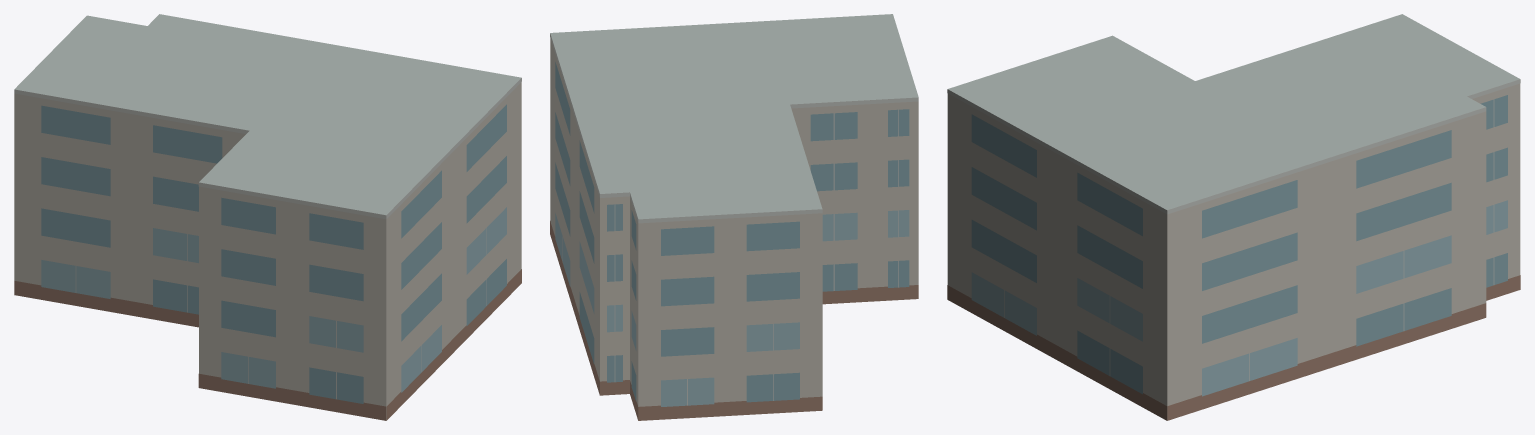
File: residential-687e0bcc-2764-4811-96a7-f87931f4c9b6.glb
The picture shows the model from 3 angles, left to right: view 1: azimuth 30°, elevation 25°; view 2: azimuth 150°, elevation 25°; view 3: azimuth 270°, elevation 25°; orthographic projection. The views are drawn at different scales.
Parts seen in each view (by area): view 1: residential-687e0bcc-2764-4811-96a7-f87931f4c9b6.tmp; view 2: residential-687e0bcc-2764-4811-96a7-f87931f4c9b6.tmp; view 3: residential-687e0bcc-2764-4811-96a7-f87931f4c9b6.tmp.
Part boxes in pixels (x1,y1,x2,y2): residential-687e0bcc-2764-4811-96a7-f87931f4c9b6.tmp: (14, 14, 521, 420); residential-687e0bcc-2764-4811-96a7-f87931f4c9b6.tmp: (550, 14, 918, 420); residential-687e0bcc-2764-4811-96a7-f87931f4c9b6.tmp: (947, 14, 1520, 420).
Size of the model in its own units: 24.39 by 12.2 by 30.09.
